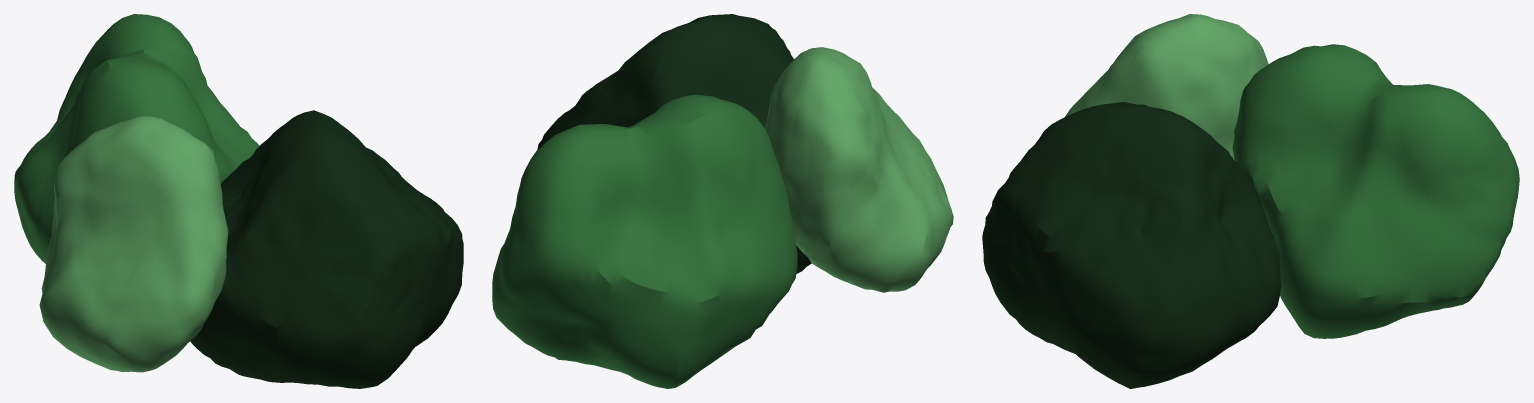
File: pedras verdes - 1.fbx
3 renders of one model, left to right at view 1: azimuth 30°, elevation 25°; view 2: azimuth 150°, elevation 25°; view 3: azimuth 270°, elevation 25°, orthographic. The views are drawn at different scales.
Parts seen in each view (by area): view 1: rock.001, rock.004, rock.002; view 2: rock.002, rock.004, rock.001; view 3: rock.001, rock.002, rock.004.
Part boxes in pixels (x1=…): rock.001: x1=190, y1=110, x2=463, y2=388; rock.004: x1=39, y1=116, x2=228, y2=372; rock.002: x1=14, y1=14, x2=259, y2=263; rock.002: x1=492, y1=94, x2=797, y2=388; rock.004: x1=765, y1=47, x2=953, y2=292; rock.001: x1=537, y1=14, x2=811, y2=273; rock.001: x1=982, y1=102, x2=1280, y2=388; rock.002: x1=1232, y1=44, x2=1519, y2=338; rock.004: x1=1065, y1=14, x2=1268, y2=160.
Size of the model in its own units: 187 by 121 by 220.
